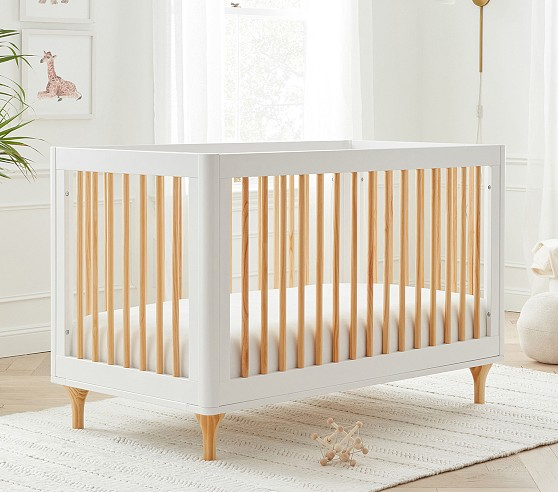crib: (52, 141, 504, 458)
